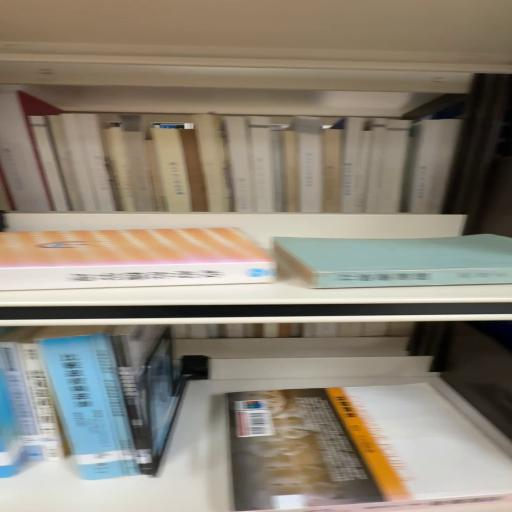flat: (225, 383, 512, 512), (0, 227, 276, 291), (274, 234, 512, 289)
